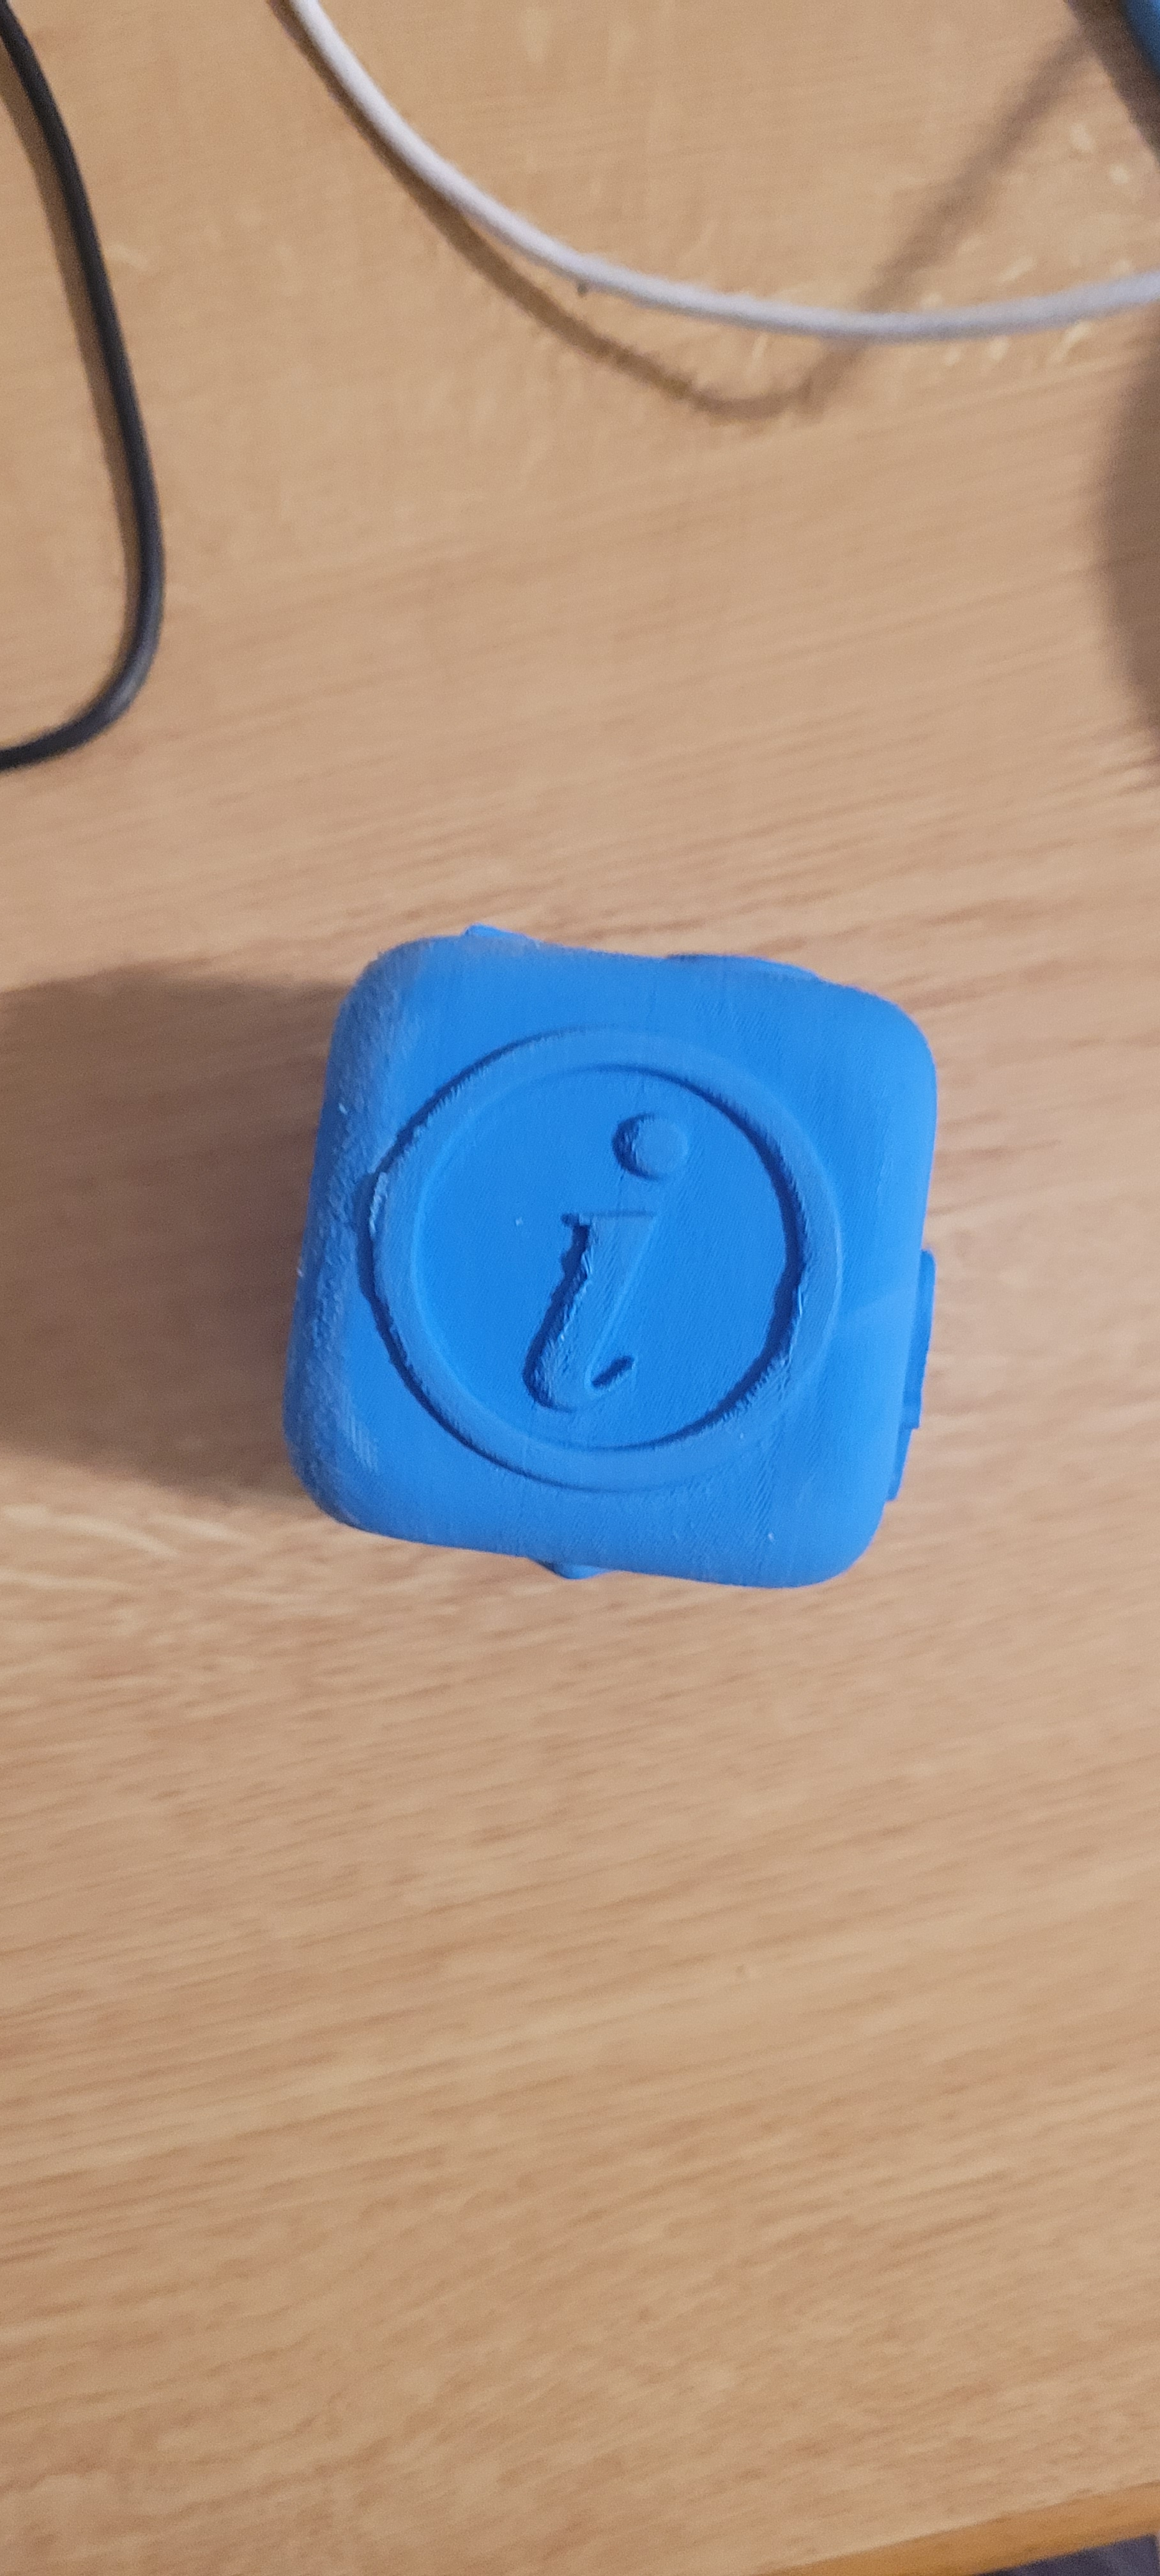Info: (353, 1056, 887, 1510)
